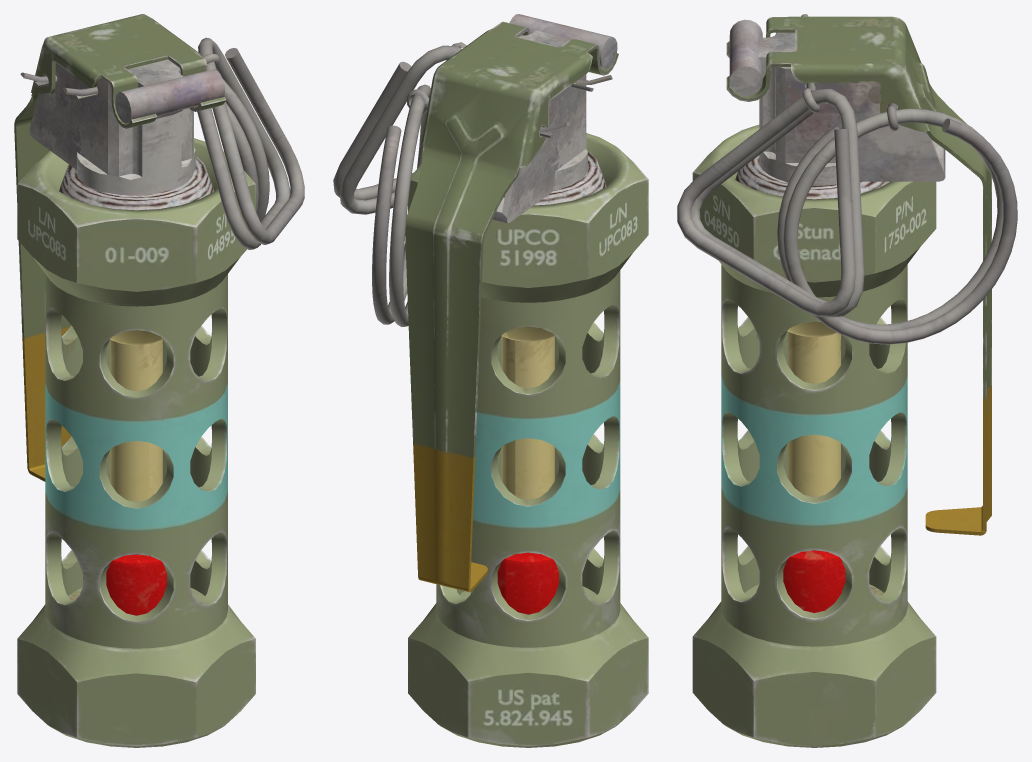
Rendered from flashbang.glb.
3 views of the same model, side by side, from view 1: azimuth 30°, elevation 25°; view 2: azimuth 150°, elevation 25°; view 3: azimuth 270°, elevation 25° (orthographic). The views are drawn at different scales.
Parts seen in each view (by area): view 1: Body_0, Head_2, Lever_3, Pin_2_7, Core_1, PIn_1_6; view 2: Body_0, Lever_3, Core_1, Head_2, PIn_1_6, Pin_2_7; view 3: Body_0, Lever_3, Head_2, Pin_2_7, PIn_1_6, Core_1.
Boxes of the visible parts, x1,y1,x2,y2 form: Body_0: [17, 138, 255, 747]; Head_2: [29, 59, 224, 195]; Lever_3: [14, 14, 226, 481]; Pin_2_7: [197, 37, 304, 249]; Core_1: [106, 330, 166, 615]; PIn_1_6: [222, 78, 269, 221]; Body_0: [408, 133, 648, 747]; Lever_3: [405, 21, 618, 592]; Core_1: [497, 326, 558, 614]; Head_2: [492, 14, 617, 223]; PIn_1_6: [372, 84, 430, 326]; Pin_2_7: [333, 45, 461, 214]; Body_0: [692, 124, 936, 747]; Lever_3: [726, 16, 991, 535]; Head_2: [729, 19, 945, 185]; Pin_2_7: [677, 89, 864, 317]; PIn_1_6: [777, 108, 1017, 344]; Core_1: [783, 321, 845, 612].
Size of the model in its own units: 0.0714 by 0.1658 by 0.077.
1 material, 1 textured.
